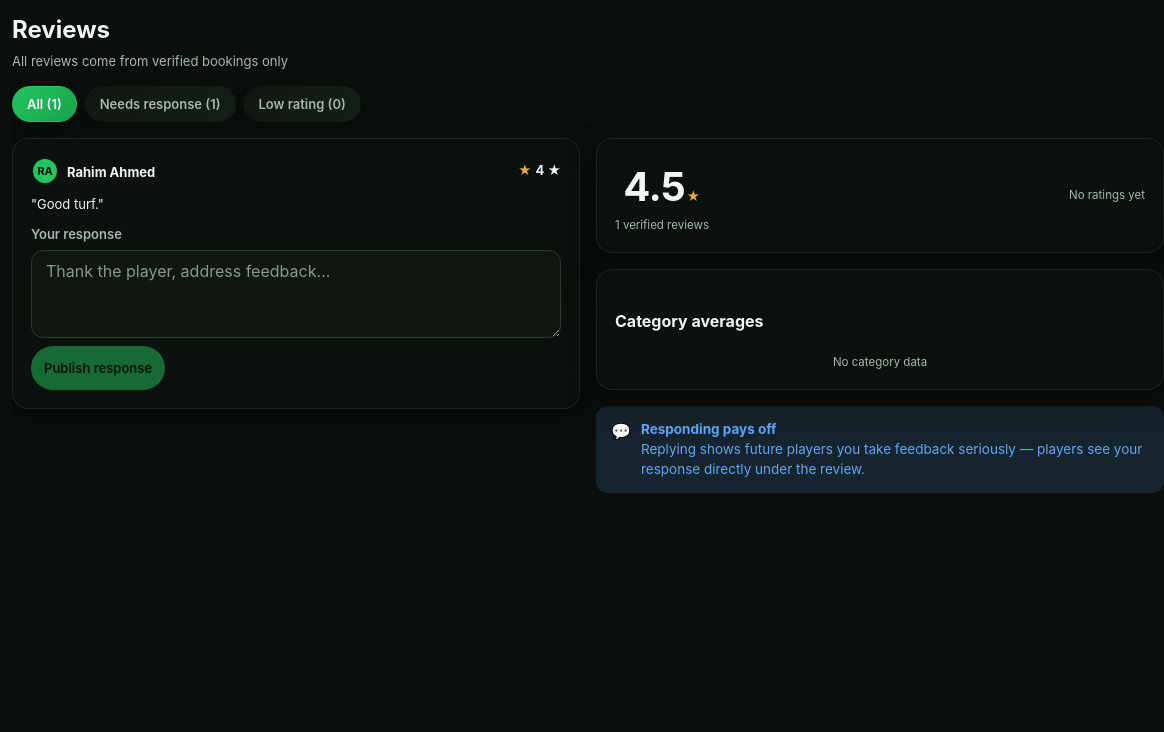
it: owner ReviewsPage › sends the typed response to the backend and only then reports success
Type "Thanks for playing!" into the text box labelled "Your response" at (296, 294), box [31,250,561,338]
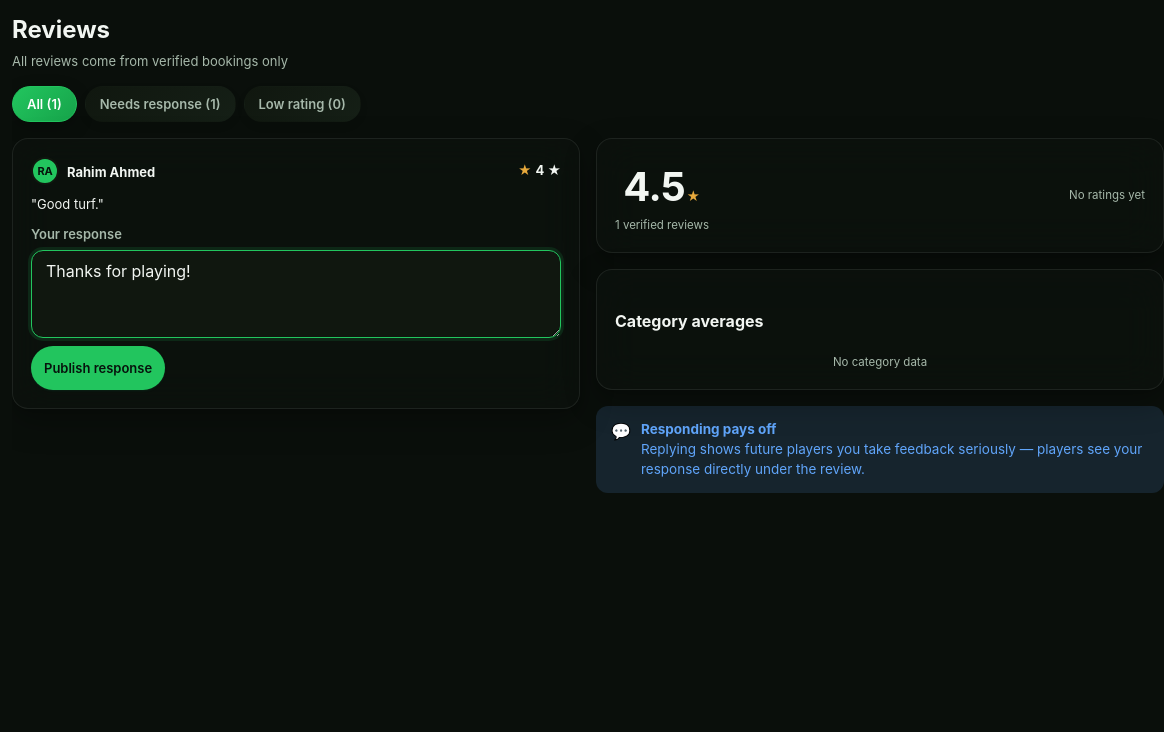
Click the button "Publish response" at (98, 368), box [31,346,165,390]
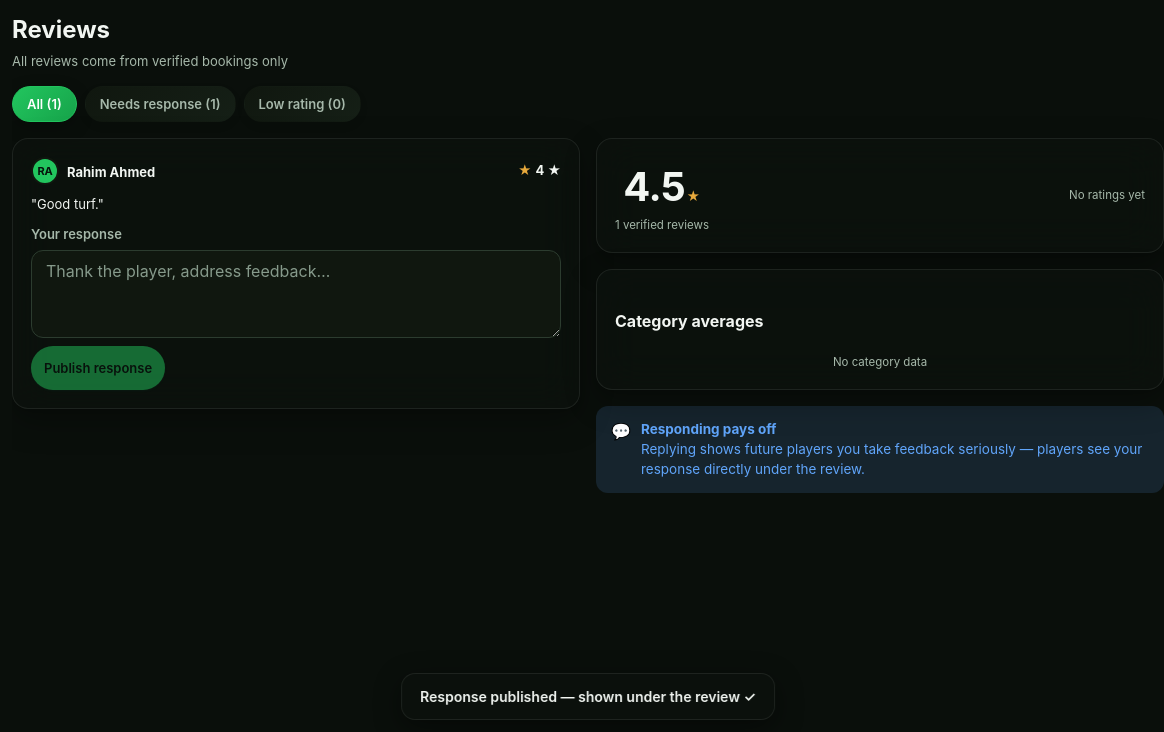
Expected: the text "Response published — shown under the review ✓" is shown, [401,673,775,720]
